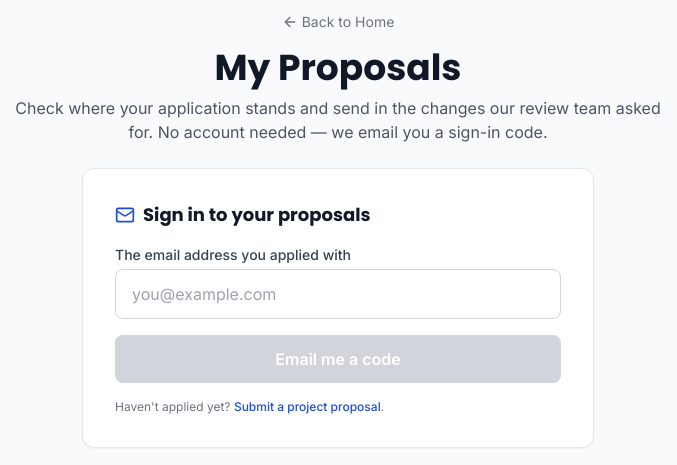
Test: MyProposals — an address with no dossier › tells the applicant plainly when no proposal is filed under the address
In the field labelled "The email address you applied with": coordinates (338, 294) [115, 269, 561, 319], type "nobody@example.com"
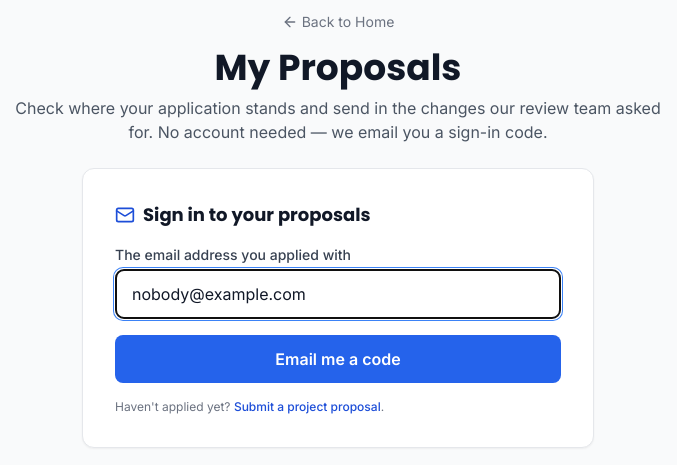
Click the button "Email me a code": coordinates (338, 359) [115, 335, 561, 383]
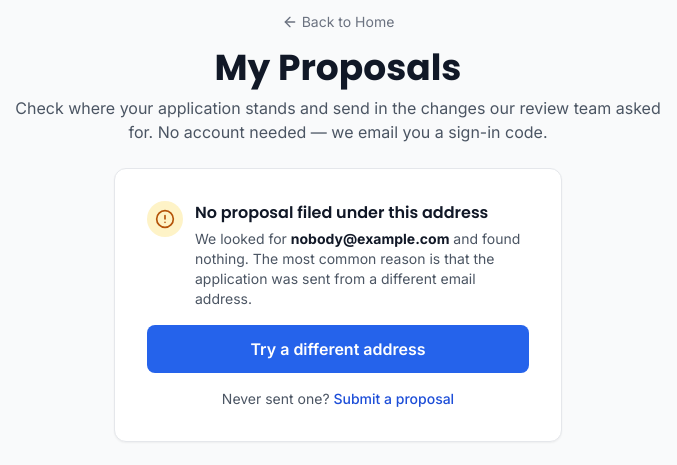
Result: the heading "No proposal filed under this address" is shown at [195, 201, 529, 225]
Result: the text "nobody@example.com" is shown at [291, 230, 449, 247]
